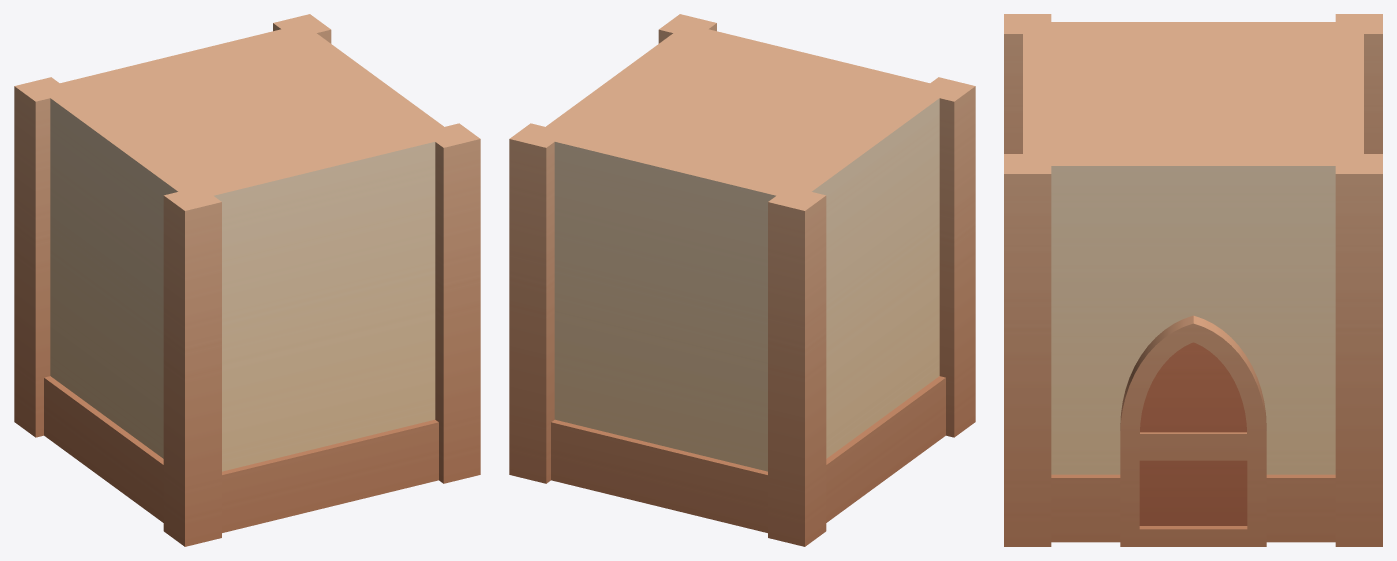
The model's file is tower-square-mid-door.obj.
The picture shows the model from 3 angles, left to right: view 1: azimuth 30°, elevation 25°; view 2: azimuth 150°, elevation 25°; view 3: azimuth 270°, elevation 25°; orthographic projection. The views are drawn at different scales.
Parts seen in each view (by area): view 1: tower-square-mid-door; view 2: tower-square-mid-door; view 3: tower-square-mid-door.
Part boxes in pixels (x1,y1,x2,y2): tower-square-mid-door: [14, 14, 480, 546]; tower-square-mid-door: [509, 14, 975, 546]; tower-square-mid-door: [1004, 14, 1382, 546].
Size of the model in its own units: 0.93 by 1.01 by 0.93.
1 material, 1 textured.
